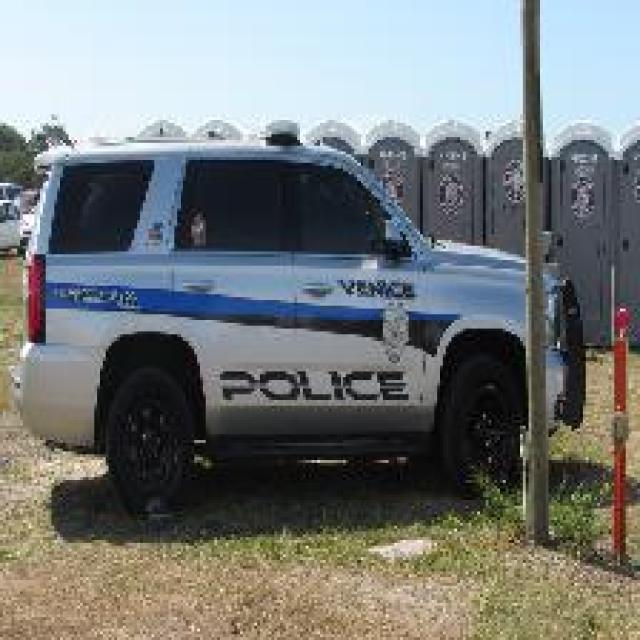Police-car: (8, 117, 586, 514)
